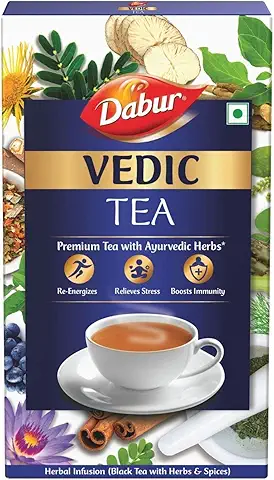Tea: (3, 1, 268, 478)
